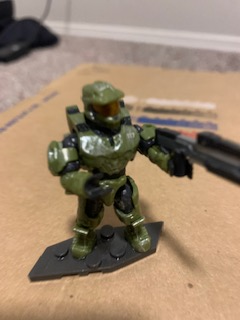chief: (46, 77, 191, 258)
rifle: (153, 123, 240, 187)
spartan: (48, 79, 193, 260)
